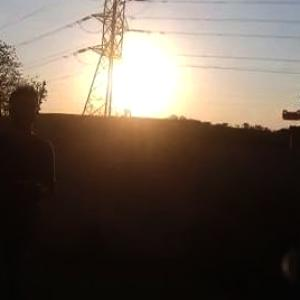follow: (0, 85, 71, 299)
